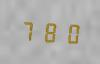eight: (39, 19, 58, 44)
seven: (18, 18, 37, 43)
zero: (59, 20, 78, 45)
